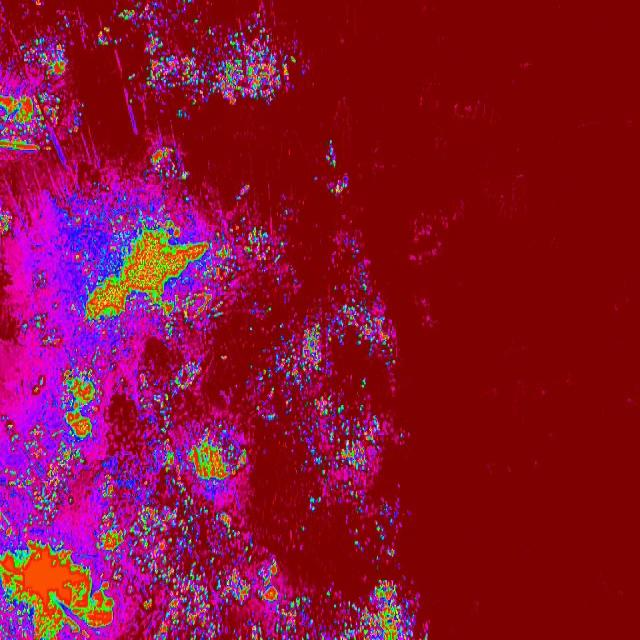fire: (258, 302, 397, 502), (95, 0, 306, 108), (133, 500, 280, 640), (82, 218, 232, 334), (0, 533, 122, 639), (280, 580, 412, 640), (2, 425, 88, 513), (157, 422, 249, 492), (0, 88, 57, 162), (53, 364, 106, 441), (90, 470, 134, 560), (152, 357, 204, 408), (17, 36, 74, 82), (142, 140, 197, 186), (234, 221, 285, 269), (18, 313, 64, 352), (352, 260, 382, 298), (0, 206, 17, 242), (26, 374, 49, 398), (327, 176, 352, 198), (322, 140, 340, 170)
